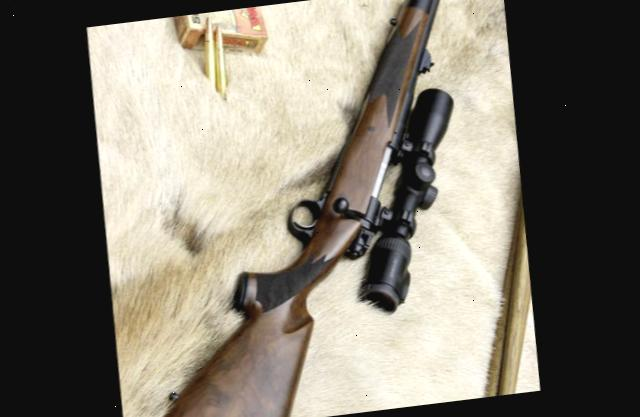rifle: (84, 0, 552, 417)
